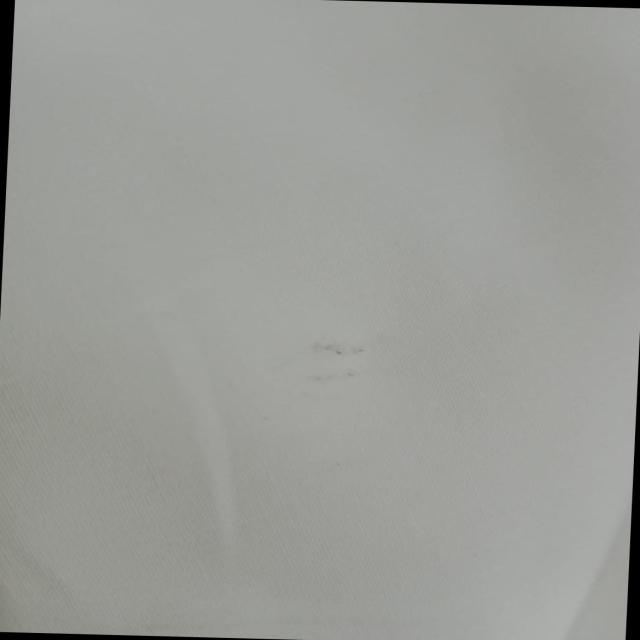stain: (287, 330, 377, 405)
